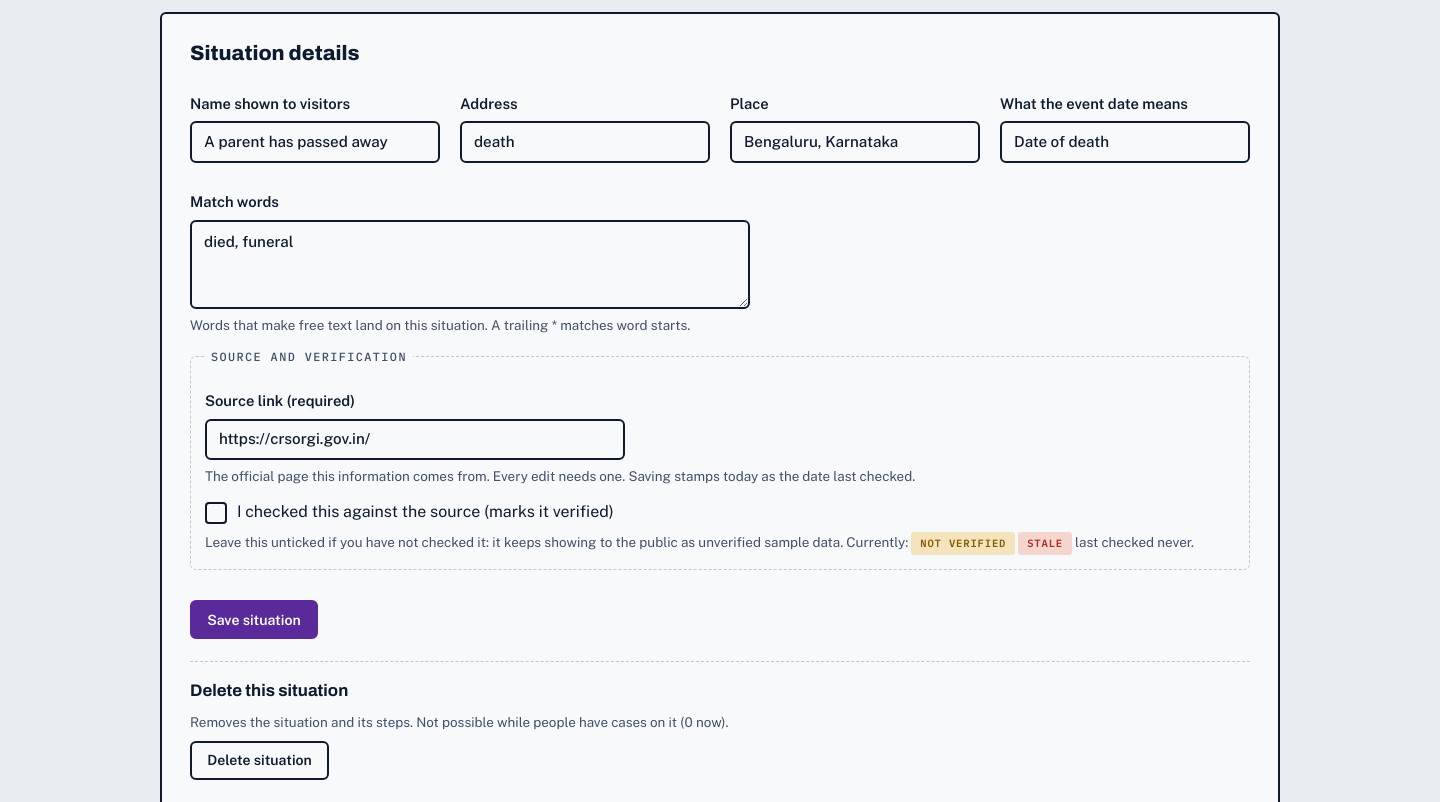
Test case: Admin: a situation and its steps (the stale badge) › refuses to delete a situation that has cases and shows why
(page scrolled)
Click the button "Delete situation": (260, 760) top-left (190, 741), bottom-right (329, 780)
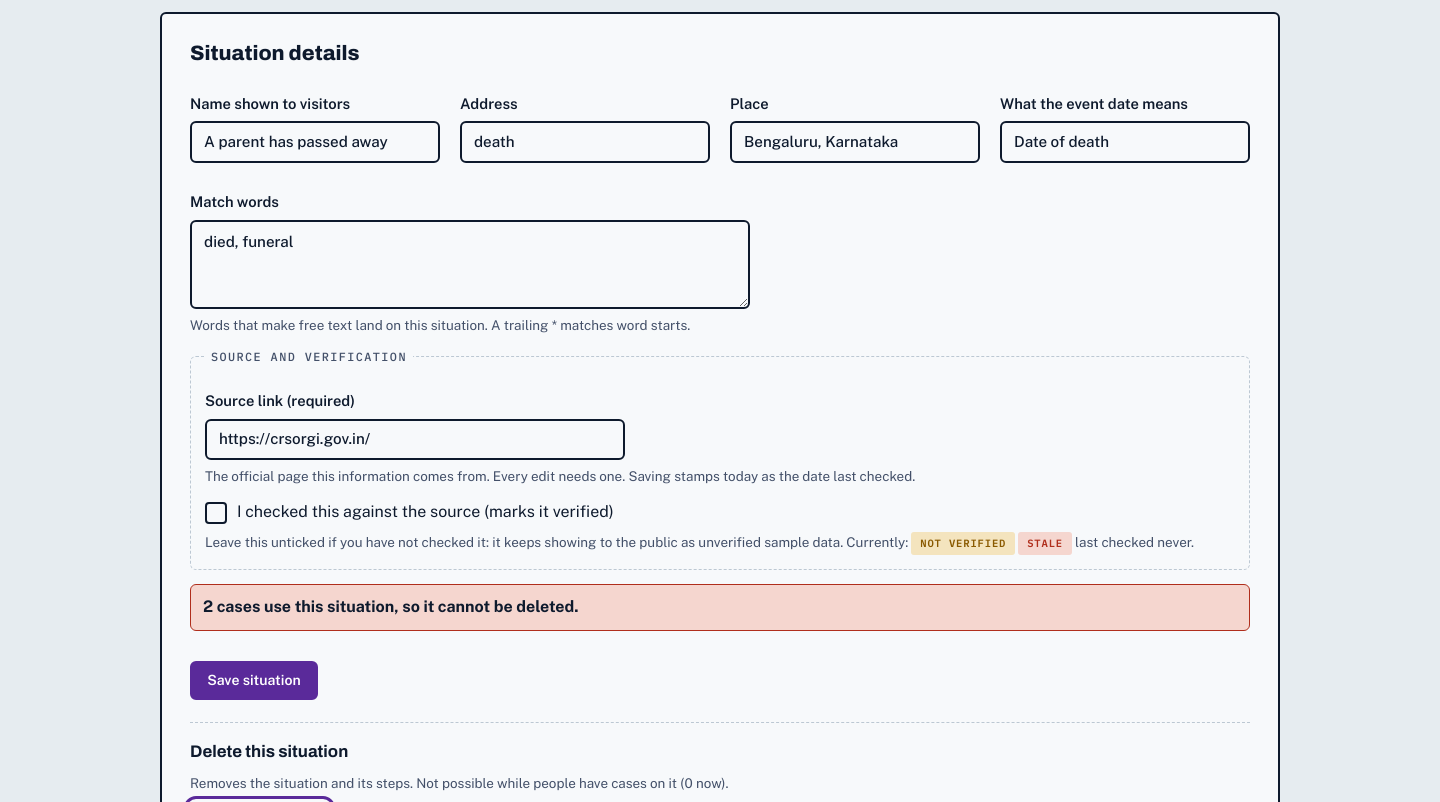
Check: the message shows "2 cases use this situation", box top-left (203, 597), bottom-right (579, 616)
